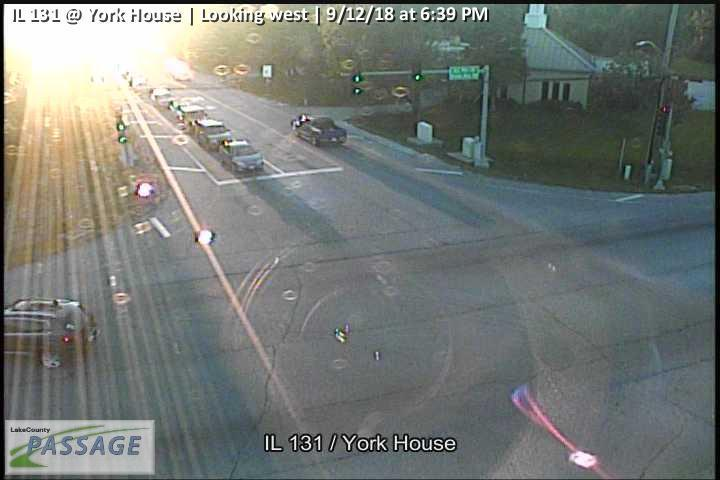SUV: (3, 297, 98, 372)
Sedan: (291, 112, 347, 148), (218, 137, 264, 172), (192, 118, 232, 147)
